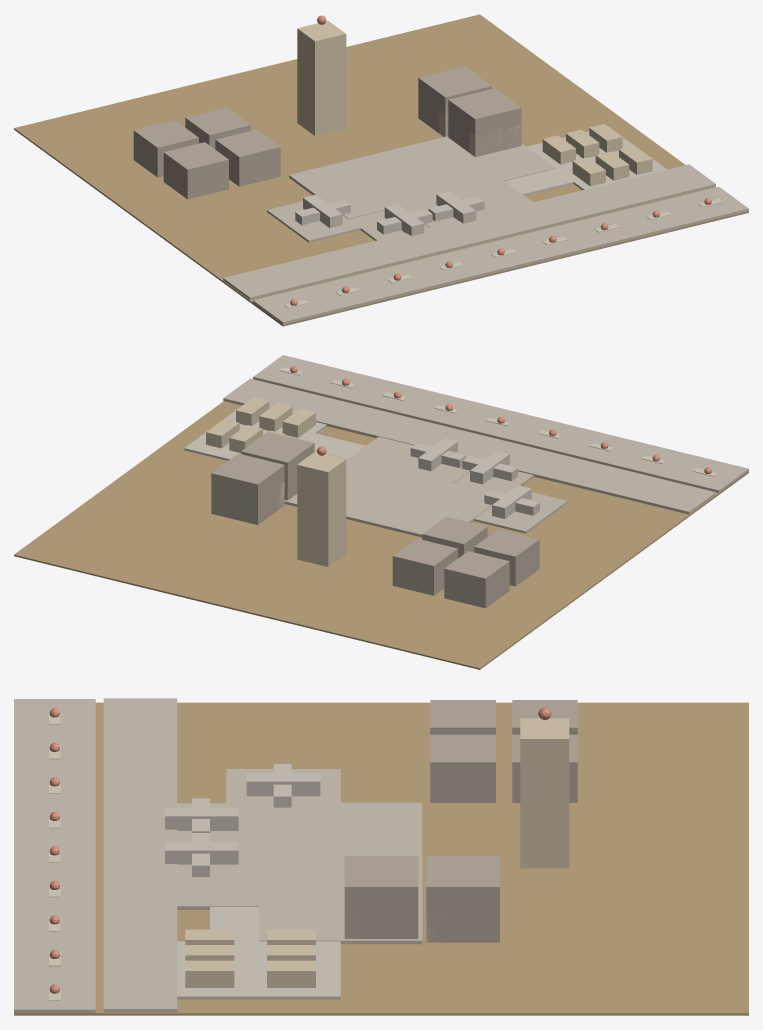
Rendered from stage_18.glb.
3 views of the same model, one above another, from view 1: azimuth 30°, elevation 25°; view 2: azimuth 150°, elevation 25°; view 3: azimuth 270°, elevation 25° (orthographic). The views are drawn at different scales.
Visible parts, largest first — view 1: geometry_0; view 2: geometry_0; view 3: geometry_0.
Part boxes in pixels (x1,y1,x2,y2): geometry_0: (14,14,748,326); geometry_0: (14,355,748,669); geometry_0: (14,698,748,1015).
Bounding box in the file's own units: 9 × 2.06 × 9.
